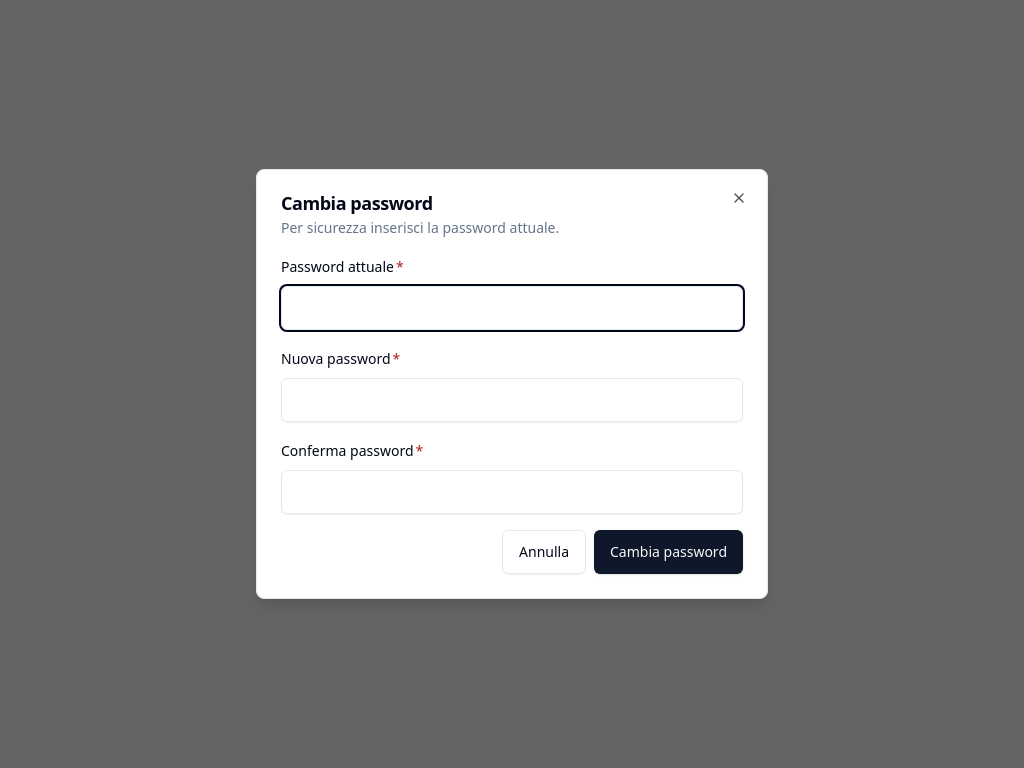
Test: ChangePasswordDialog › invia solo password attuale e nuova (la conferma resta nel browser), poi chiude e avvisa
Type "attuale-123" into the password field labelled "Password attuale*" at point(512, 308), box [281,286,743,330]
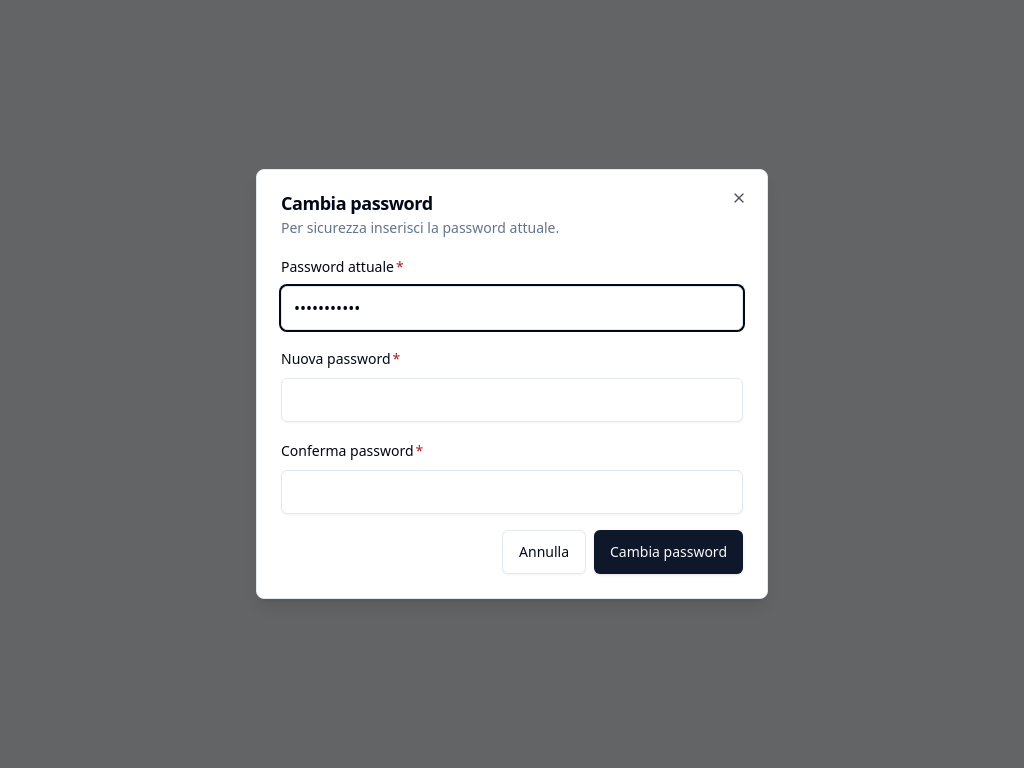
Type "nuova-password-1" into the password field labelled "Nuova password*" at point(512, 400), box [281,378,743,422]
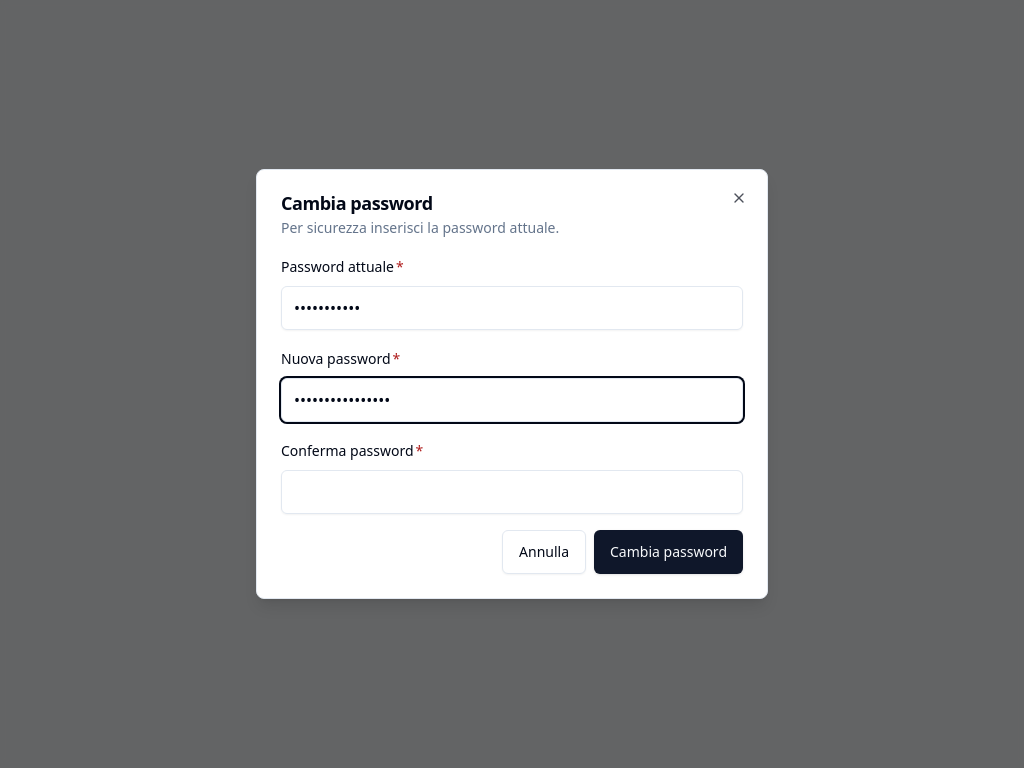
Type "nuova-password-1" into the password field labelled "Conferma password*" at point(512, 492), box [281,470,743,514]
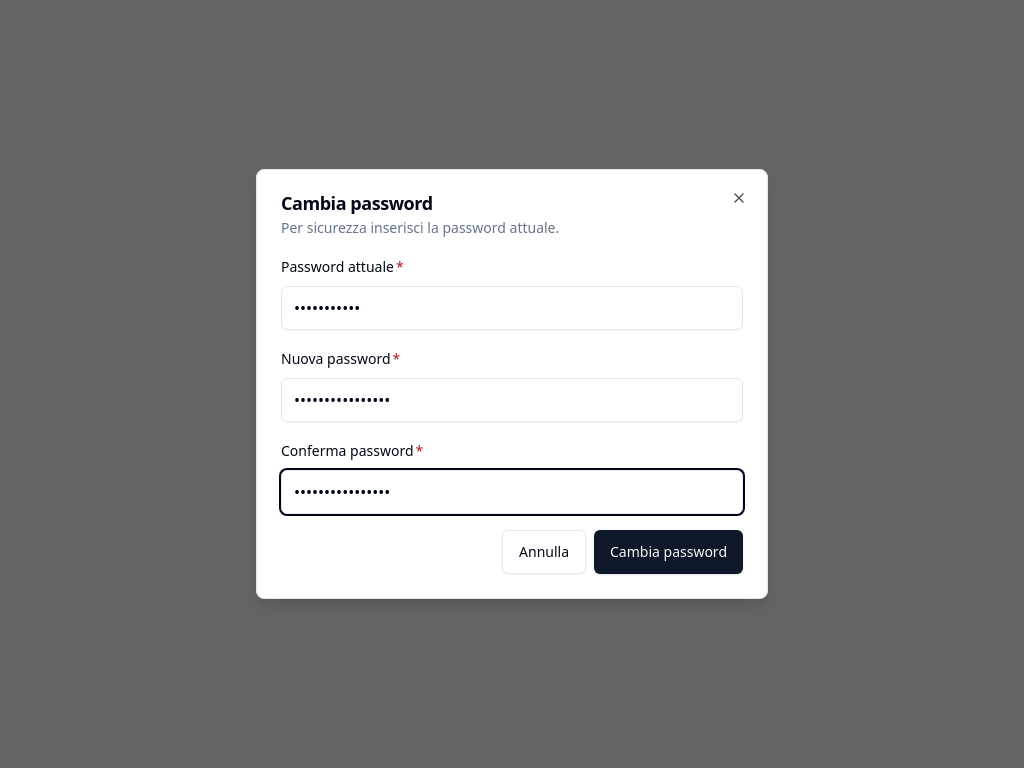
Click the button "Cambia password" at point(668, 552), box [594,530,743,574]
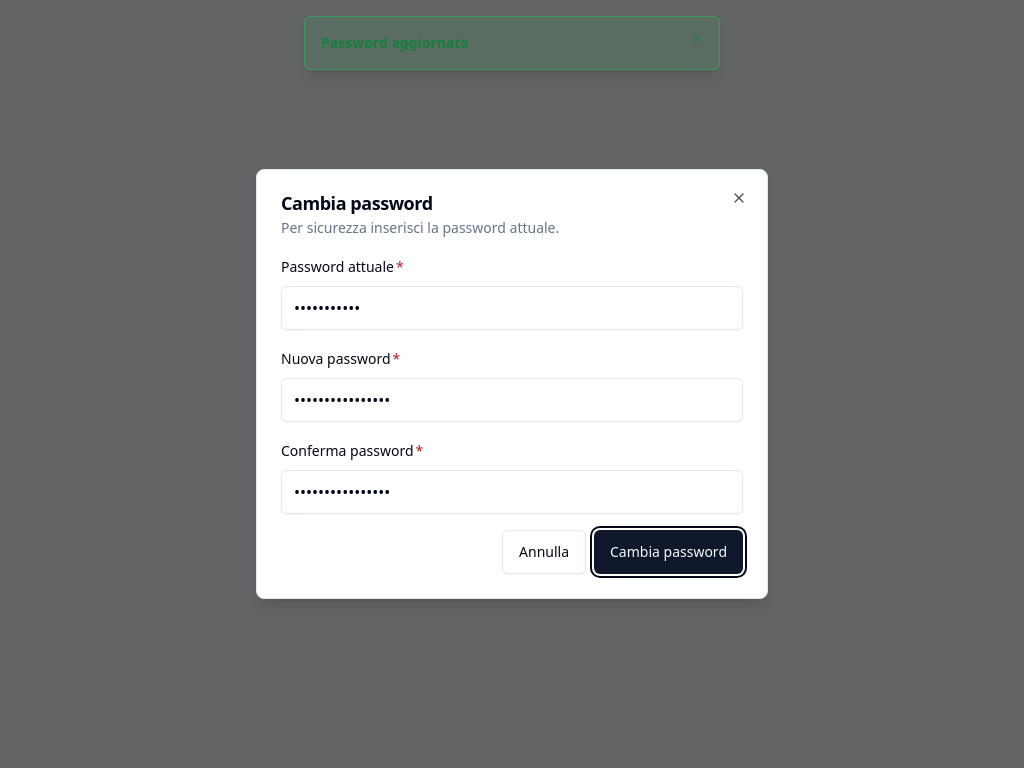
Expected: the text "Password aggiornata" is shown, [321,33,469,53]
